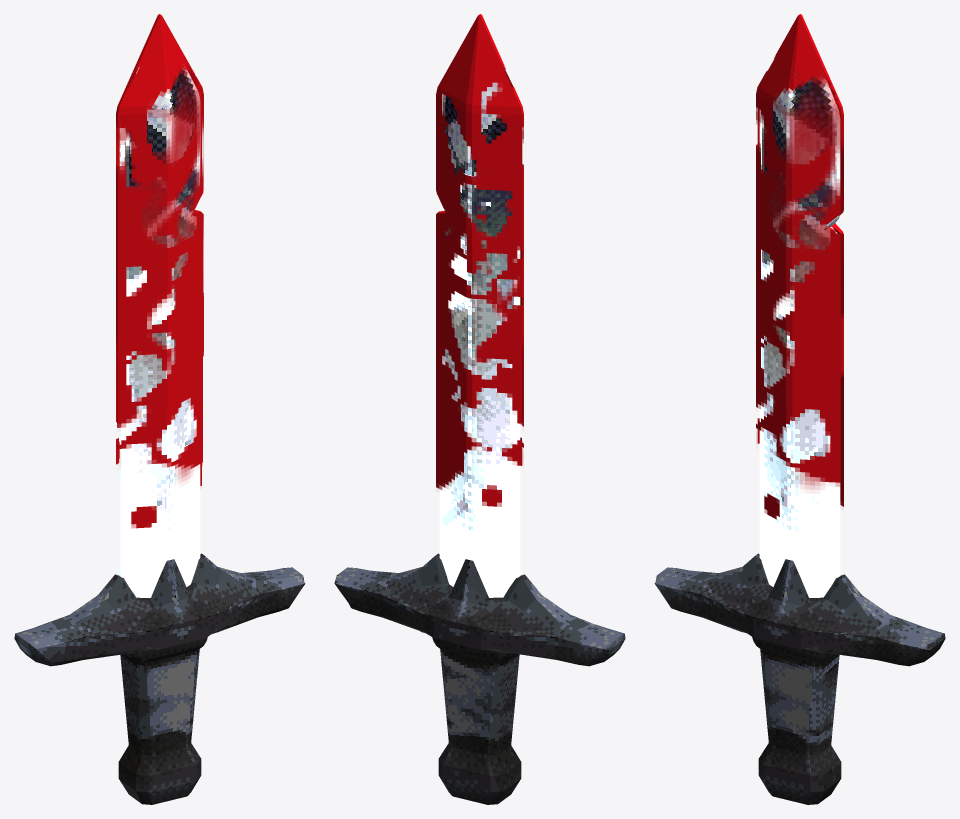
Rendered from Sword.glb.
3 renders of one model, left to right at view 1: azimuth 30°, elevation 25°; view 2: azimuth 150°, elevation 25°; view 3: azimuth 330°, elevation 25°, orthographic.
Parts seen in each view (by area): view 1: Handle, Blade, Blood1.002, Blood1, Blood1.003, Blood1.001; view 2: Handle, Blade, Blood1.002, Blood1, Blood1.003, Blood1.001; view 3: Handle, Blade, Blood1.002, Blood1.003, Blood1.001, Blood1.
Boxes of the visible parts, bbox=[...] form: Handle: bbox=[14, 553, 305, 804]; Blade: bbox=[119, 67, 200, 597]; Blood1.002: bbox=[116, 60, 203, 528]; Blood1: bbox=[116, 123, 203, 427]; Blood1.003: bbox=[116, 14, 203, 481]; Blood1.001: bbox=[116, 40, 202, 270]; Handle: bbox=[334, 553, 625, 804]; Blade: bbox=[439, 82, 520, 597]; Blood1.002: bbox=[436, 128, 523, 506]; Blood1: bbox=[436, 123, 523, 426]; Blood1.003: bbox=[436, 14, 523, 459]; Blood1.001: bbox=[436, 29, 523, 255]; Handle: bbox=[654, 553, 945, 804]; Blade: bbox=[759, 76, 840, 597]; Blood1.002: bbox=[756, 64, 843, 519]; Blood1.003: bbox=[756, 14, 843, 489]; Blood1.001: bbox=[756, 33, 843, 288]; Blood1: bbox=[756, 108, 843, 417].
Bounding box in the file's own units: 2.13 × 5.74 × 0.6151.
Materials: 7 (7 with a texture image).
